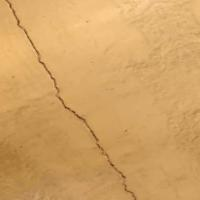crack: (8, 0, 136, 199)
